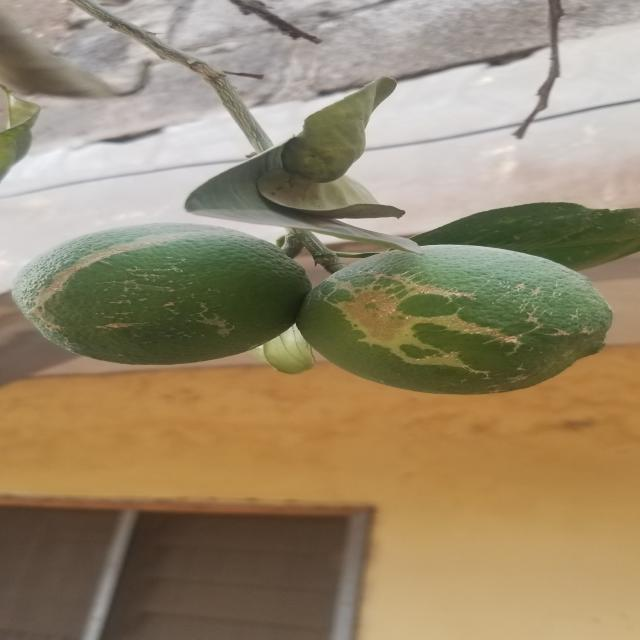Unripe: (307, 251, 594, 398), (26, 220, 314, 364)
